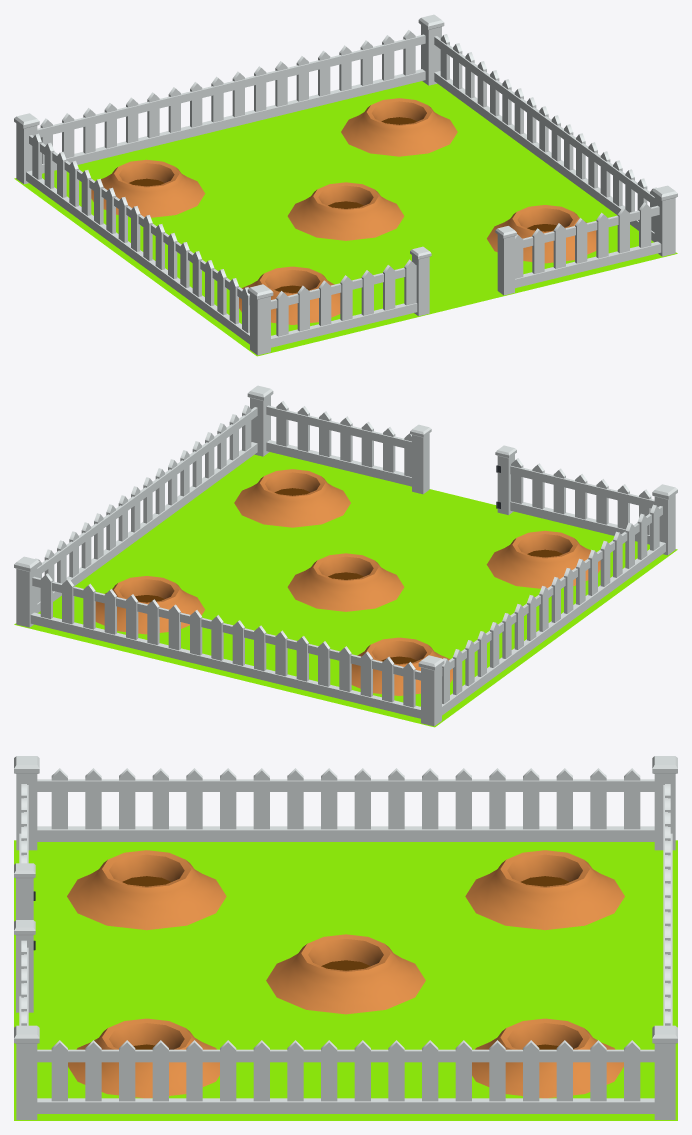
The model's file is ground.glb.
The picture shows the model from 3 angles, top to bottom: view 1: azimuth 30°, elevation 25°; view 2: azimuth 150°, elevation 25°; view 3: azimuth 270°, elevation 25°; orthographic projection. The views are drawn at different scales.
Parts seen in each view (by area): view 1: ground, fenceBeams (2), fencePanels (2), fencePanels (3), fencePanels (4), hole1, hole5, fenceBeams (4), hole4, fencePanels, fenceBeams (3), fencePanels (1) (+10 smaller); view 2: ground, fencePanels (2), fencePanels (3), fenceBeams (2), fencePanels (4), hole2, hole5, fenceBeams (4), hole3, fenceBeams (3), fenceBeams (1), fencePanels (1) (+10 smaller); view 3: ground, fencePanels (4), fenceBeams (3), fencePanels (3), fenceBeams (4), hole5, hole3, hole4, hole1, hole2, post_3, post_4 (+6 smaller).
Boxes of the visible parts, x1=… form: ground: x1=14, y1=81, x2=677, y2=356; fenceBeams (2): x1=37, y1=34, x2=425, y2=173; fencePanels (2): x1=40, y1=30, x2=415, y2=163; fencePanels (3): x1=32, y1=133, x2=249, y2=332; fencePanels (4): x1=440, y1=34, x2=656, y2=232; hole1: x1=341, y1=98, x2=457, y2=156; hole5: x1=287, y1=182, x2=404, y2=240; fenceBeams (4): x1=434, y1=36, x2=654, y2=241; hole4: x1=91, y1=159, x2=205, y2=217; fencePanels: x1=276, y1=259, x2=416, y2=336; fenceBeams (3): x1=26, y1=135, x2=249, y2=344; fencePanels (1): x1=515, y1=202, x2=651, y2=278; ground: x1=14, y1=452, x2=677, y2=727; fencePanels (2): x1=40, y1=573, x2=415, y2=707; fencePanels (3): x1=442, y1=504, x2=659, y2=703; fenceBeams (2): x1=30, y1=576, x2=420, y2=718; fencePanels (4): x1=35, y1=405, x2=251, y2=603; hole2: x1=234, y1=469, x2=350, y2=527; hole5: x1=287, y1=553, x2=404, y2=611; fenceBeams (4): x1=37, y1=407, x2=257, y2=612; hole3: x1=486, y1=530, x2=600, y2=588; fenceBeams (3): x1=442, y1=506, x2=665, y2=715; fenceBeams (1): x1=266, y1=405, x2=411, y2=486; fencePanels (1): x1=276, y1=401, x2=411, y2=477; ground: x1=14, y1=840, x2=677, y2=1120; fencePanels (4): x1=51, y1=1040, x2=640, y2=1101; fenceBeams (3): x1=37, y1=779, x2=654, y2=841; fencePanels (3): x1=51, y1=768, x2=640, y2=829; fenceBeams (4): x1=37, y1=1049, x2=654, y2=1113; hole5: x1=266, y1=934, x2=425, y2=1014; hole3: x1=67, y1=850, x2=226, y2=930; hole4: x1=465, y1=850, x2=624, y2=930; hole1: x1=472, y1=1018, x2=623, y2=1098; hole2: x1=68, y1=1018, x2=219, y2=1098; post_3: x1=652, y1=1025, x2=677, y2=1119; post_4: x1=14, y1=1025, x2=39, y2=1119.
Size of what is drawn, in the model's own units: 10 by 1.42 by 10.
